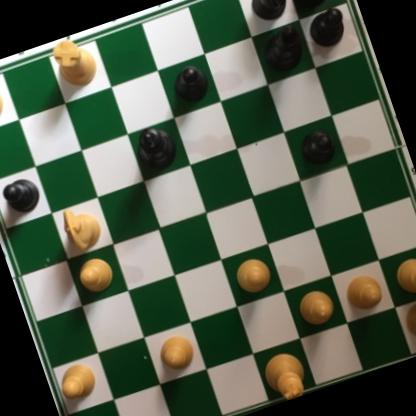black-bishop: (252, 21, 307, 76)
black-king: (128, 118, 184, 175)
black-knight: (242, 0, 296, 29)
black-pawn: (302, 0, 353, 51), (165, 60, 213, 110), (294, 126, 339, 171), (0, 172, 44, 218)
black-rook: (279, 0, 343, 15)
white-king: (256, 345, 312, 406)
white-knight: (53, 197, 107, 257)
white-pawn: (52, 355, 102, 405), (339, 268, 389, 317), (228, 248, 276, 297), (290, 286, 339, 334), (73, 253, 118, 300), (155, 331, 199, 376), (390, 254, 416, 300)
white-queen: (0, 64, 9, 132)
white-rook: (43, 32, 101, 96), (395, 289, 416, 353)
